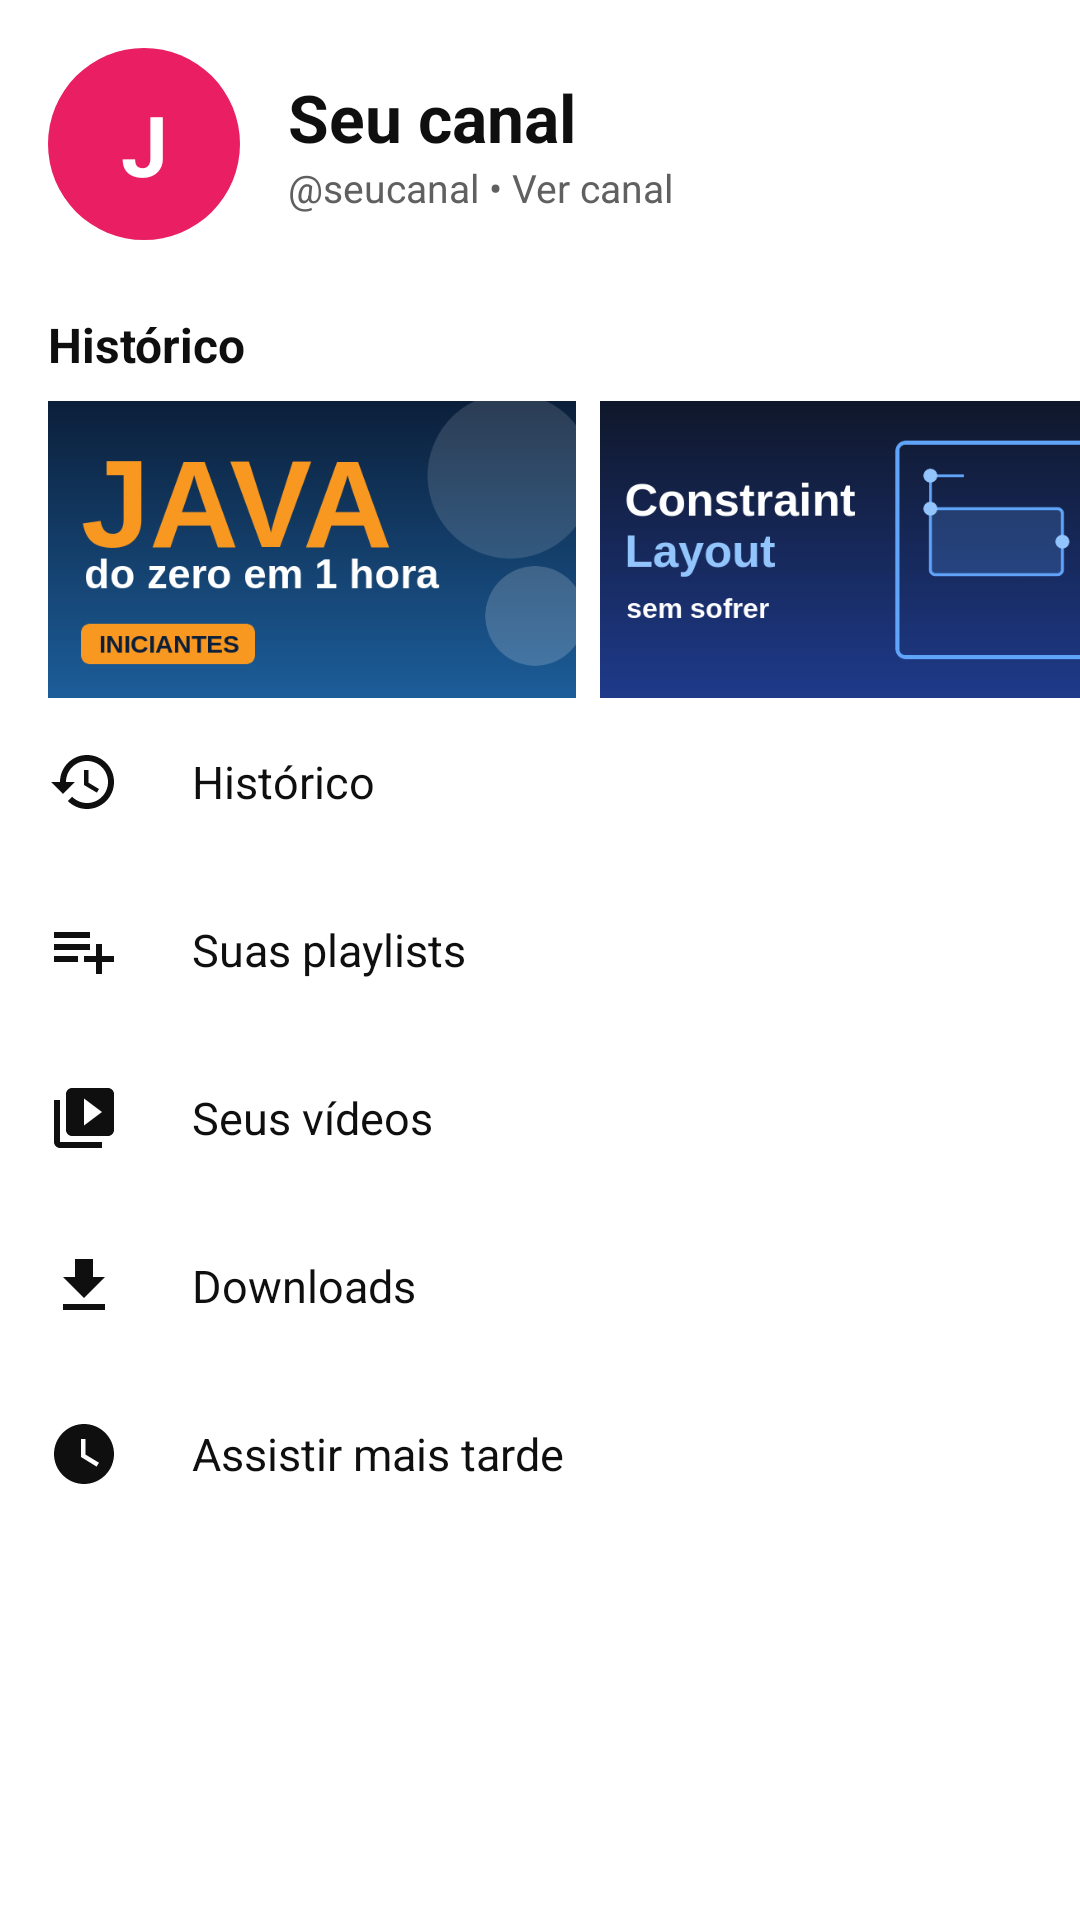

Icon bounding boxes for this 1080 × 1920 phone screenshot, format (x1, y1, x2, y2):
history: (51, 755, 114, 809)
library: (54, 1088, 114, 1148)
watch later: (54, 1424, 114, 1484)
